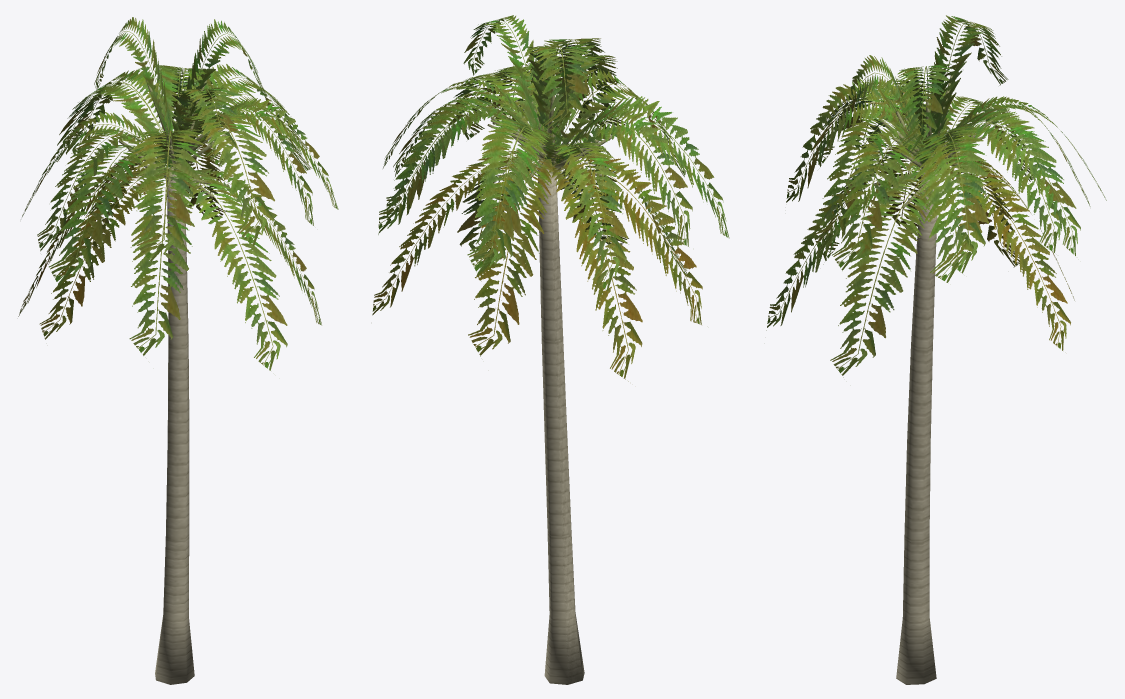
Rendered from Arecanut_Palm.glb.
3 renders of one model, left to right at view 1: azimuth 30°, elevation 25°; view 2: azimuth 150°, elevation 25°; view 3: azimuth 270°, elevation 25°, orthographic. The views are drawn at different scales.
Visible parts, largest first — view 1: Arecanut_Palm; view 2: Arecanut_Palm; view 3: Arecanut_Palm.
Boxes of the visible parts, left/top/right/bottom form: Arecanut_Palm: left=18, top=17, right=338, bottom=684; Arecanut_Palm: left=372, top=15, right=729, bottom=684; Arecanut_Palm: left=766, top=15, right=1106, bottom=684.
Bounding box in the file's own units: 4.59 × 9.5 × 4.6.
Materials: 2 (2 with a texture image).
